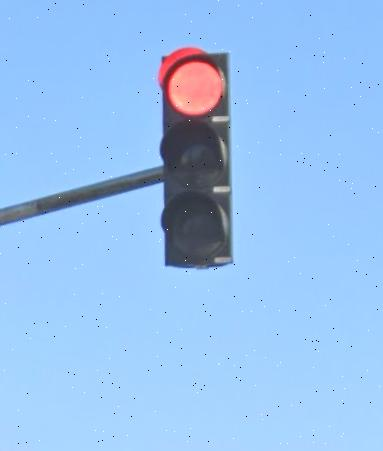redlight: (153, 52, 230, 263)
